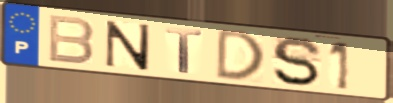1: (326, 40, 351, 91)
B: (46, 13, 97, 67)
D: (213, 27, 267, 81)
N: (102, 19, 153, 72)
S: (270, 35, 325, 88)
T: (164, 26, 205, 75)
